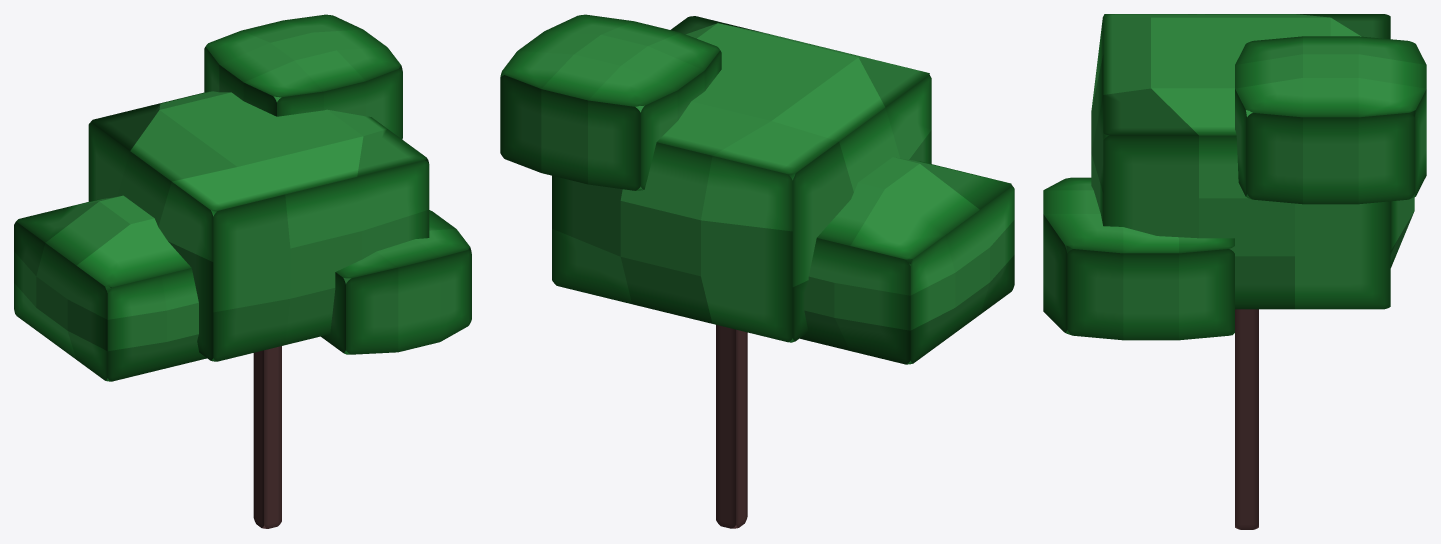
File: tree.obj
3 renders of one model, left to right at view 1: azimuth 30°, elevation 25°; view 2: azimuth 150°, elevation 25°; view 3: azimuth 270°, elevation 25°, orthographic. The views are drawn at different scales.
Visible parts, largest first — view 1: cuboid; view 2: cuboid; view 3: cuboid.
Boxes of the visible parts, <box> form: cuboid: <box>14,14,471,528</box>; cuboid: <box>500,14,1014,528</box>; cuboid: <box>1043,14,1426,529</box>.
Bounding box in the file's own units: 2.5 × 2.88 × 2.
Materials: 1 (1 with a texture image).
